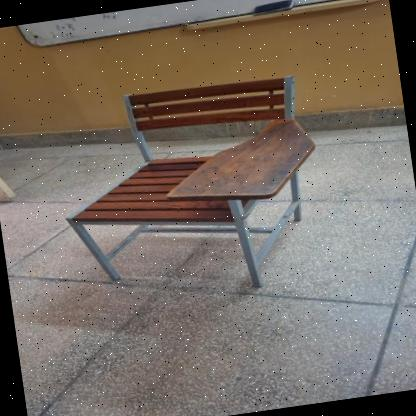chair: (42, 57, 338, 320)
